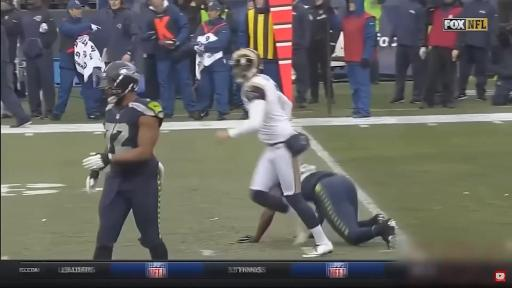Helmet: (98, 61, 139, 103), (230, 48, 260, 83)
Jersey: (241, 74, 296, 144), (104, 98, 163, 154), (301, 171, 336, 204), (302, 171, 335, 203)
Player: (218, 49, 332, 257), (83, 61, 167, 259), (301, 165, 395, 248)
